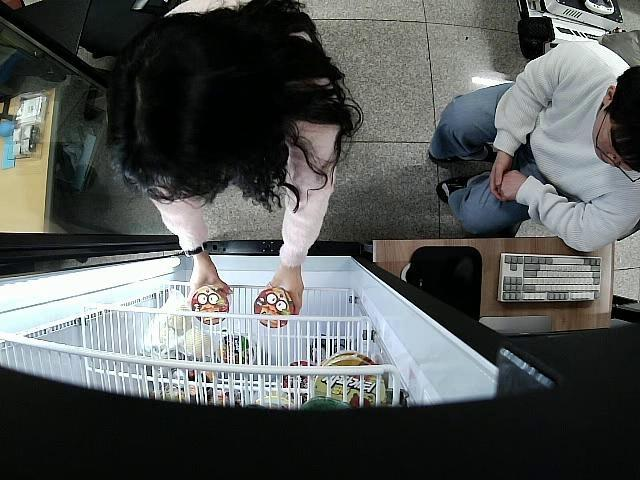06_nuguri_S: (252, 289, 295, 328), (191, 286, 232, 325)
